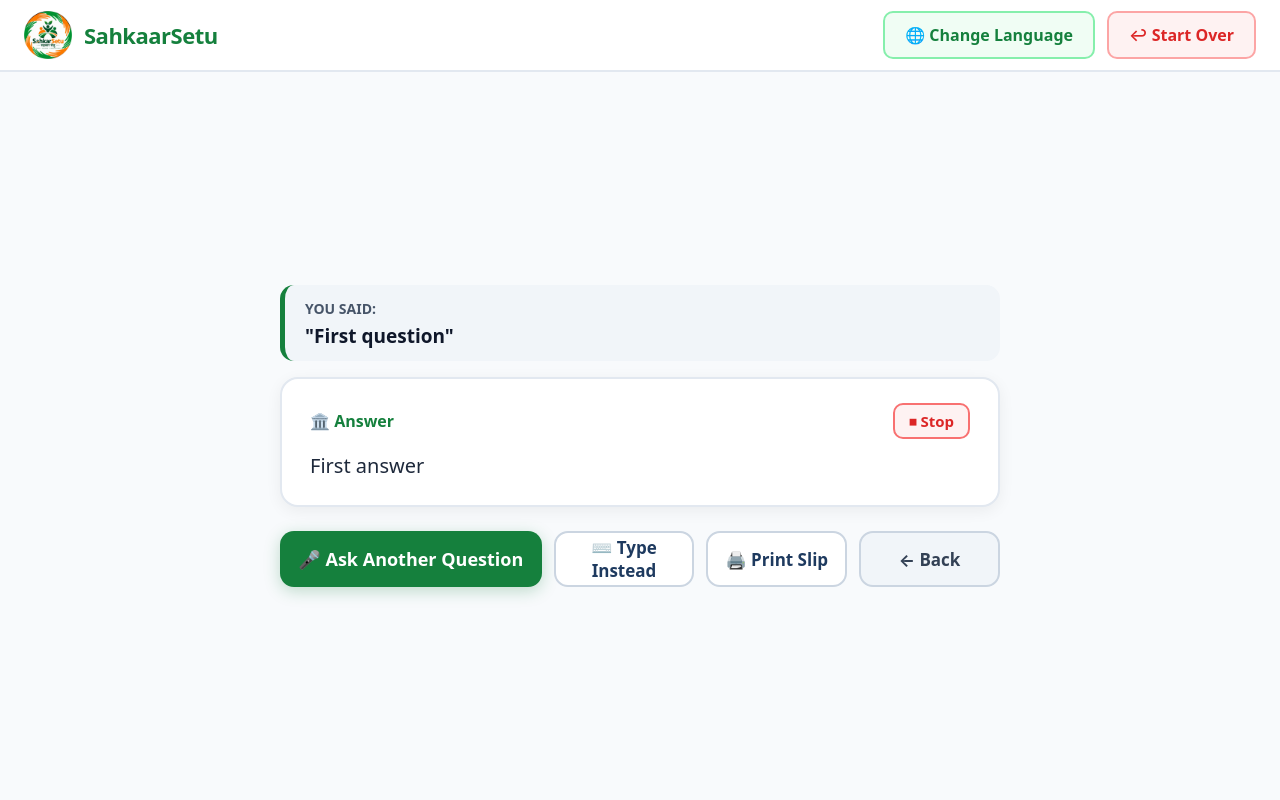
Test: K4: Kiosk Voice Input and Output System › 16. resets voice screen to listening when tapping Ask Another Question
Step 1. Click the button "🎤 Ask Another Question" → [411, 559], box [280, 531, 542, 587]
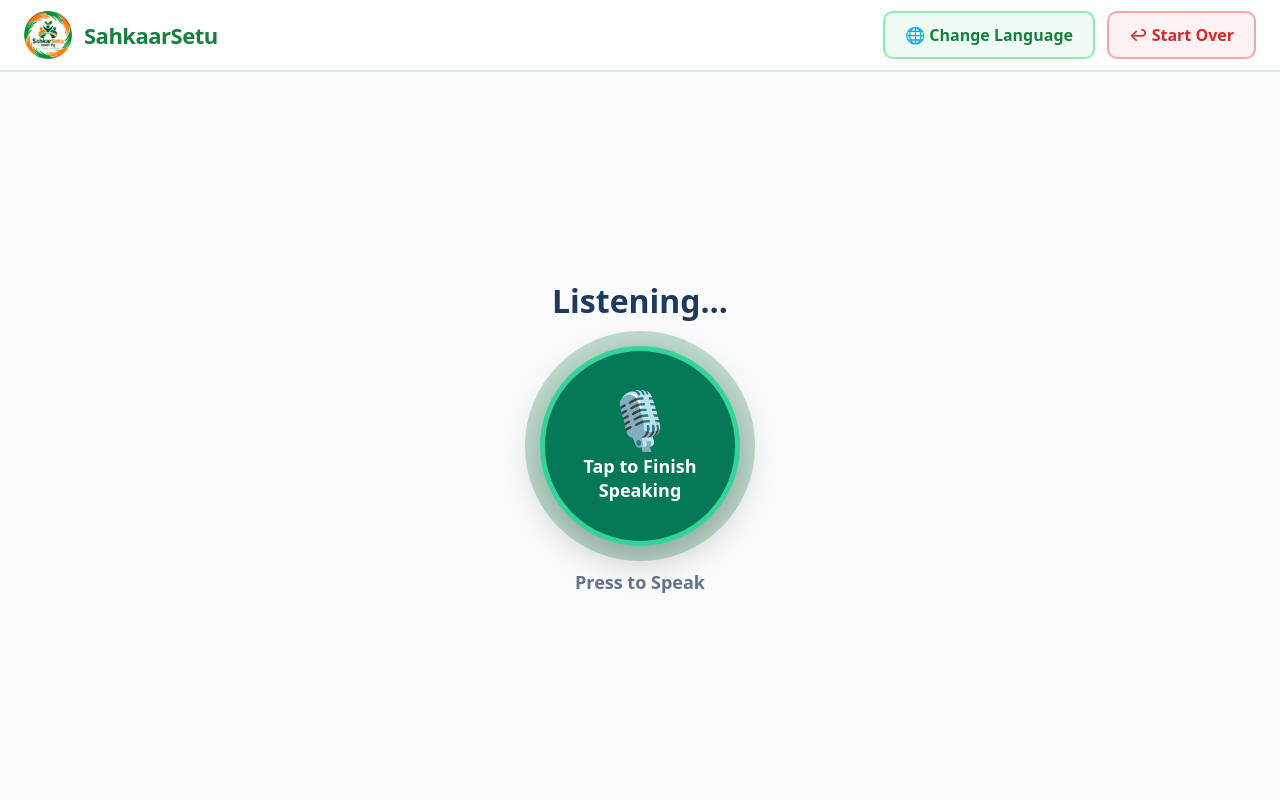
Result: the heading "Listening…" is shown at [552, 278, 728, 322]
